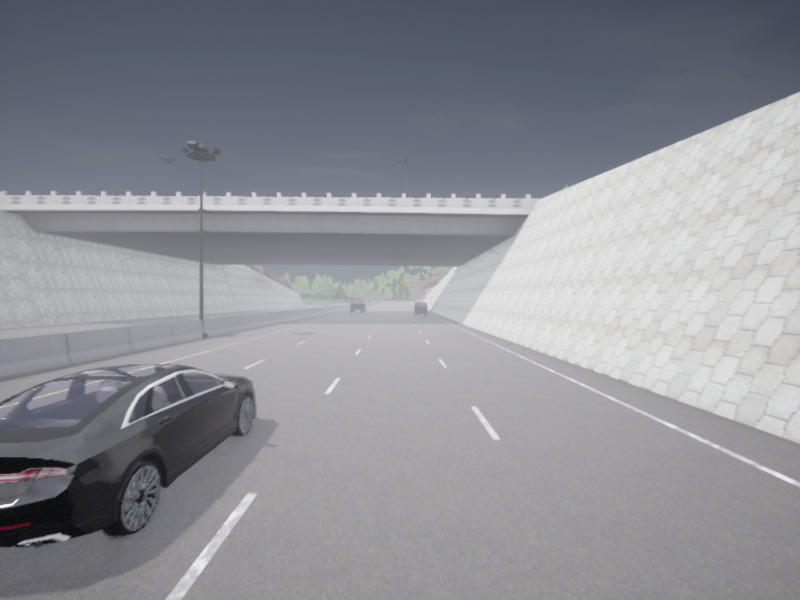vehicle: (0, 364, 255, 547), (350, 301, 365, 312), (414, 302, 426, 315)
